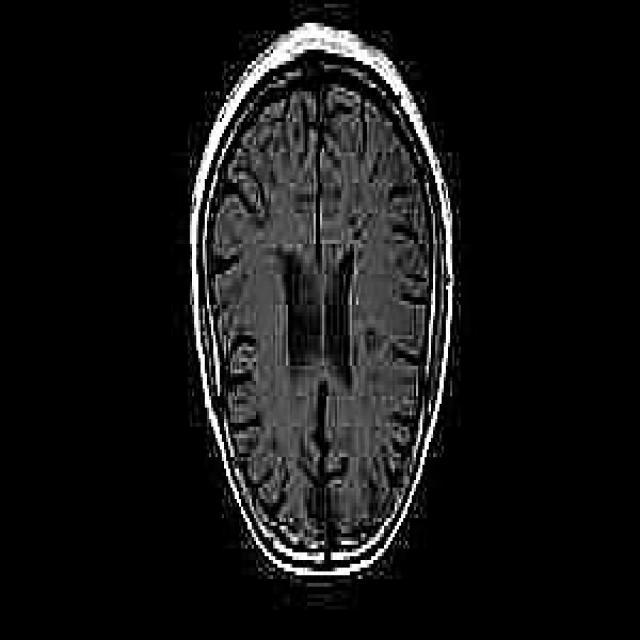notumor: (190, 27, 454, 583)
